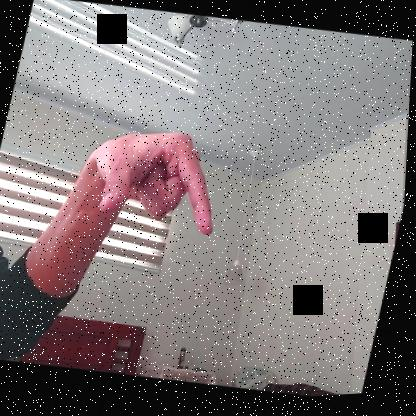Q: (79, 117, 238, 248)
